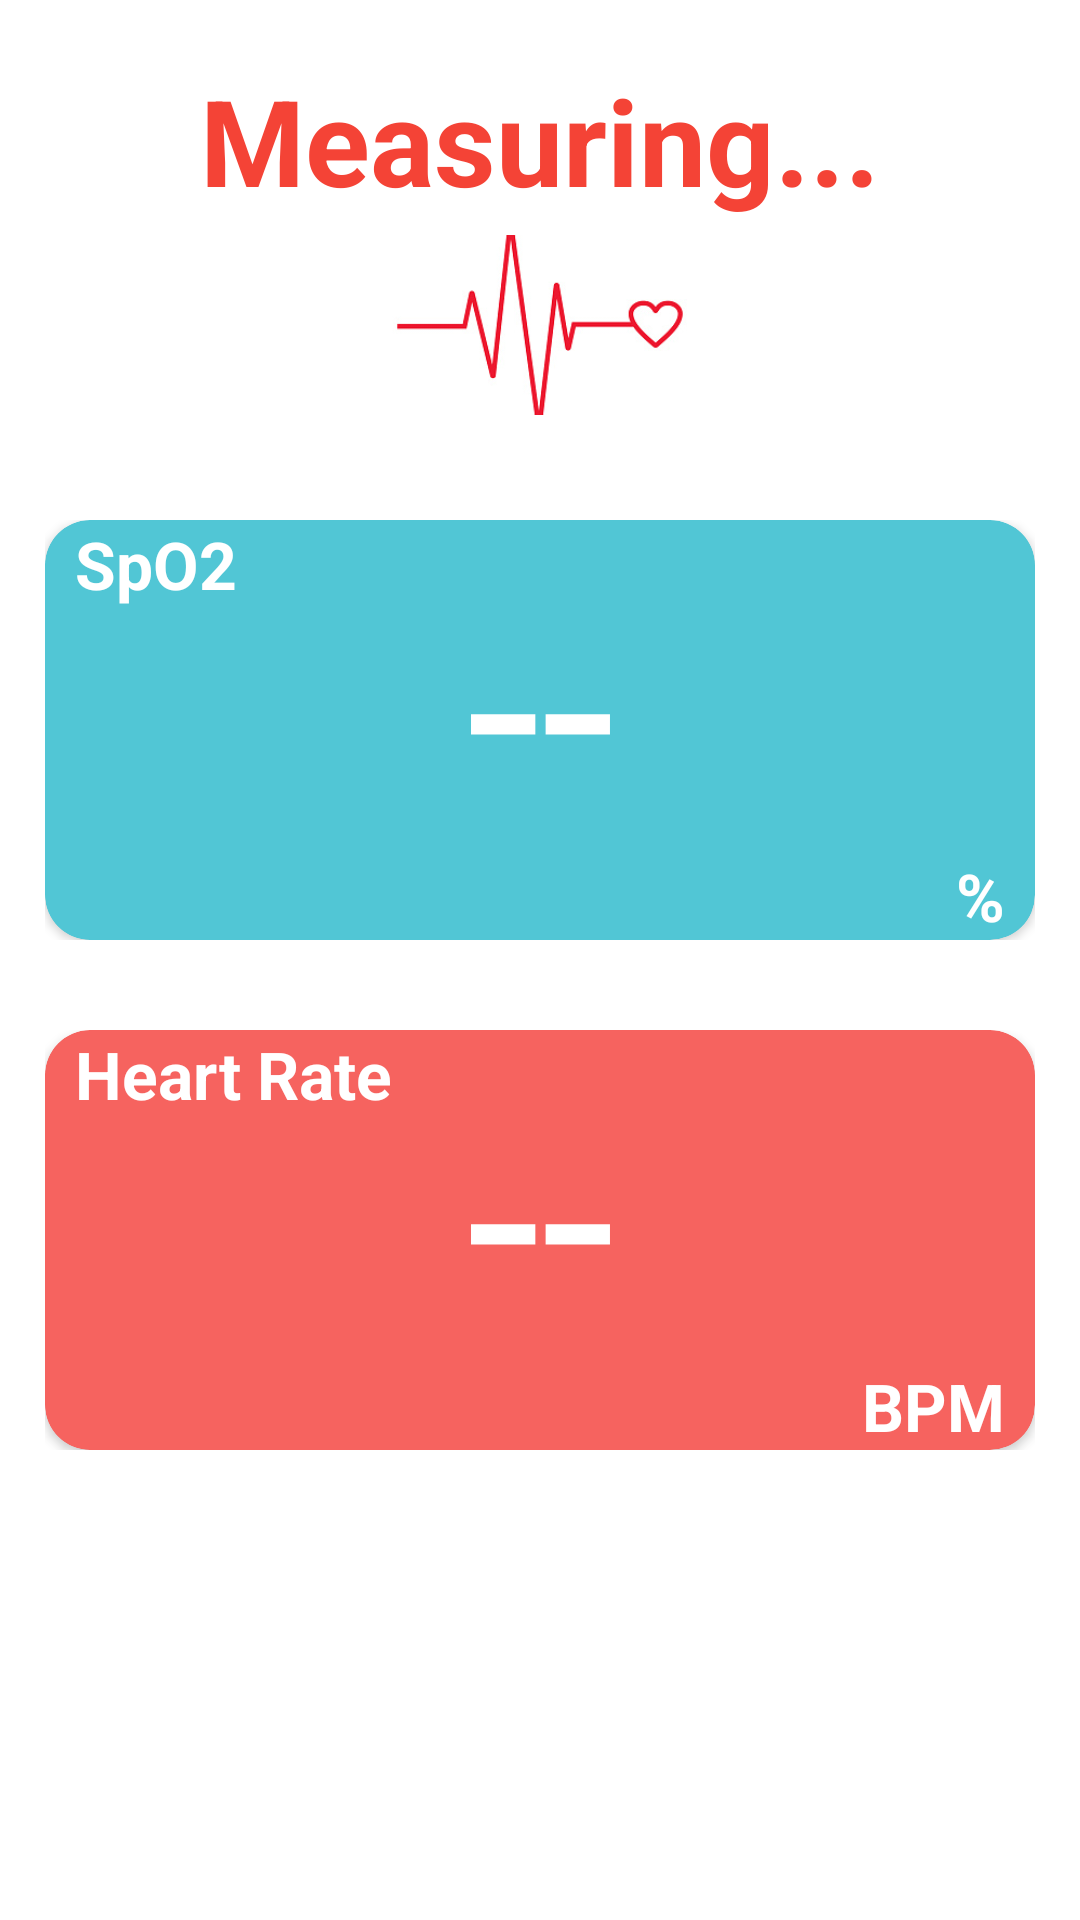

Screen size 1080 x 1920. Icon name, then its box in pixels as [x1=x1, y1=y1, x2=x2, y2=y2]:
heartpulse: [x1=397, y1=235, x2=683, y2=415]
